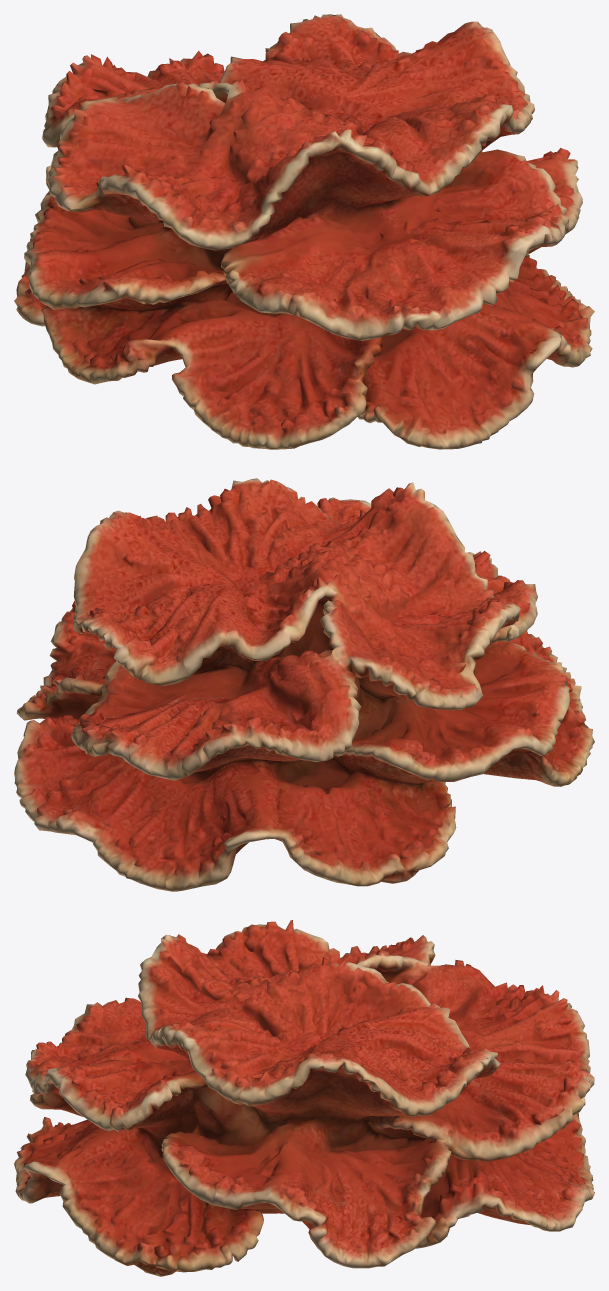
The model's file is coral_montipora.glb.
The picture shows the model from 3 angles, top to bottom: view 1: azimuth 30°, elevation 25°; view 2: azimuth 150°, elevation 25°; view 3: azimuth 270°, elevation 25°; orthographic projection. The views are drawn at different scales.
Parts seen in each view (by area): view 1: tripo_node_e86f235c-e43f-4334-9e8e-9a1ad7709604; view 2: tripo_node_e86f235c-e43f-4334-9e8e-9a1ad7709604; view 3: tripo_node_e86f235c-e43f-4334-9e8e-9a1ad7709604.
Boxes of the visible parts, bbox=[...] form: tripo_node_e86f235c-e43f-4334-9e8e-9a1ad7709604: bbox=[14, 14, 594, 449]; tripo_node_e86f235c-e43f-4334-9e8e-9a1ad7709604: bbox=[14, 478, 594, 891]; tripo_node_e86f235c-e43f-4334-9e8e-9a1ad7709604: bbox=[14, 920, 594, 1276].
Size of the model in its own units: 0.9343 by 0.4569 by 1.
Materials: 1 (1 with a texture image).
